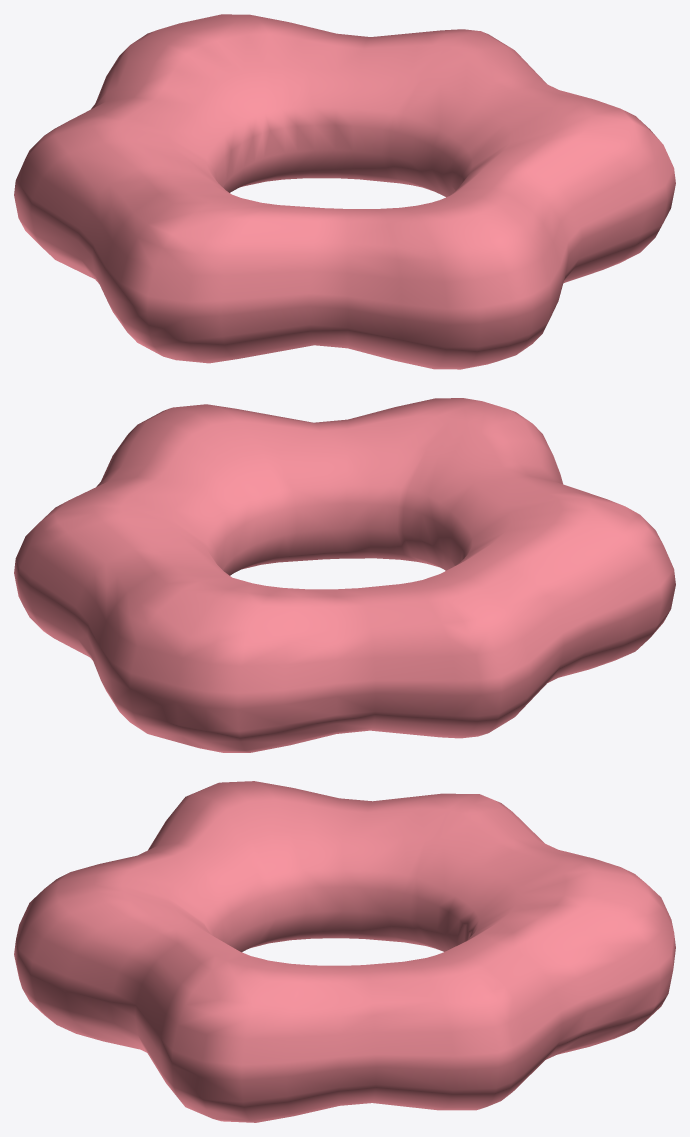
The model's file is SwimRing2.fbx.
3 renders of one model, top to bottom at view 1: azimuth 30°, elevation 25°; view 2: azimuth 150°, elevation 25°; view 3: azimuth 270°, elevation 25°, orthographic. The views are drawn at different scales.
Visible parts, largest first — view 1: youyongquan:AM94_026_obj_0004; view 2: youyongquan:AM94_026_obj_0004; view 3: youyongquan:AM94_026_obj_0004.
Part boxes in pixels (left/top/right/bottom): youyongquan:AM94_026_obj_0004: left=14, top=14, right=675, bottom=369; youyongquan:AM94_026_obj_0004: left=14, top=398, right=675, bottom=752; youyongquan:AM94_026_obj_0004: left=14, top=781, right=675, bottom=1122.
Bounding box in the file's own units: 59.16 × 14.83 × 64.57.
